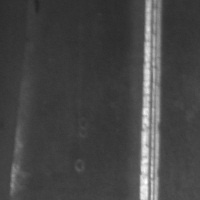scratches: (137, 0, 168, 199), (8, 107, 26, 197)
